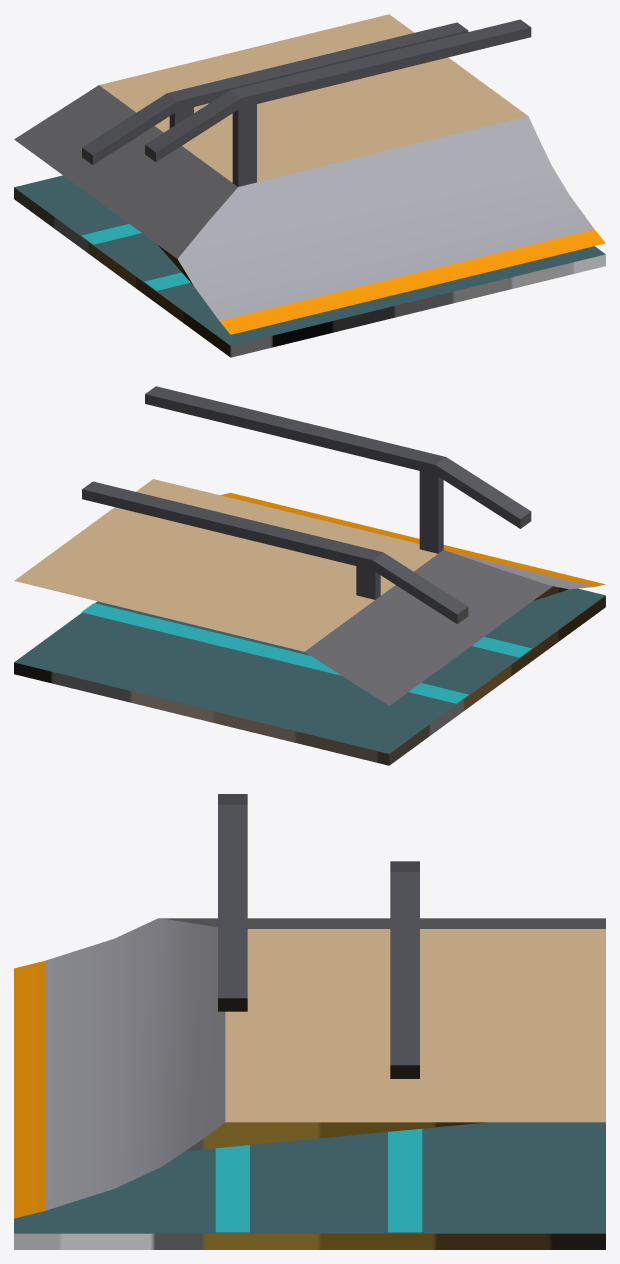
File: tile_2_0_2.gltf
3 views of the same model, one above another, from view 1: azimuth 30°, elevation 25°; view 2: azimuth 150°, elevation 25°; view 3: azimuth 270°, elevation 25° (orthographic). The views are drawn at different scales.
Parts seen in each view (by area): view 1: ramp.rectangular.02, ground, ramp.rectangular.02.rail.01, ramp.rectangular.02.rail.02, decal.ramp.branches; view 2: ramp.rectangular.02, ground, ramp.rectangular.02.rail.01, ramp.rectangular.02.rail.02, decal.ramp.branches; view 3: ramp.rectangular.02, ground, decal.ramp.branches, ramp.rectangular.02.rail.01, ramp.rectangular.02.rail.02.
Part boxes in pixels (x1,y1,x2,y2): ramp.rectangular.02: (14, 14, 605, 334); ground: (14, 175, 605, 357); ramp.rectangular.02.rail.01: (145, 19, 531, 186); ramp.rectangular.02.rail.02: (82, 22, 468, 164); decal.ramp.branches: (81, 224, 190, 290); ramp.rectangular.02: (14, 479, 605, 705); ground: (14, 588, 605, 765); ramp.rectangular.02.rail.01: (145, 386, 531, 553); ramp.rectangular.02.rail.02: (82, 481, 468, 624); decal.ramp.branches: (81, 603, 531, 703); ramp.rectangular.02: (14, 918, 605, 1218); ground: (14, 1122, 605, 1249); decal.ramp.branches: (215, 1128, 422, 1232); ramp.rectangular.02.rail.01: (218, 794, 247, 1011); ramp.rectangular.02.rail.02: (390, 861, 419, 1078).
Size of what is drawn, in the model's own units: 8 by 3.75 by 8.
2 materials, 2 textured.
